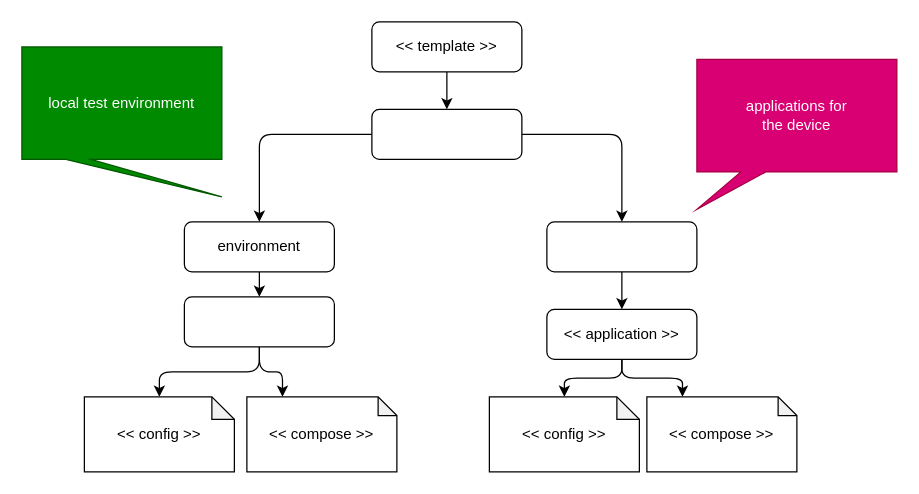
Some shapes in this 919 by 494 pixel diagram are drawn without their labels. The centre of each missing label's shape, as x and y in pixels:
<< component >>: point (258, 321)
device: point (621, 246)
manifests: point (446, 133)
